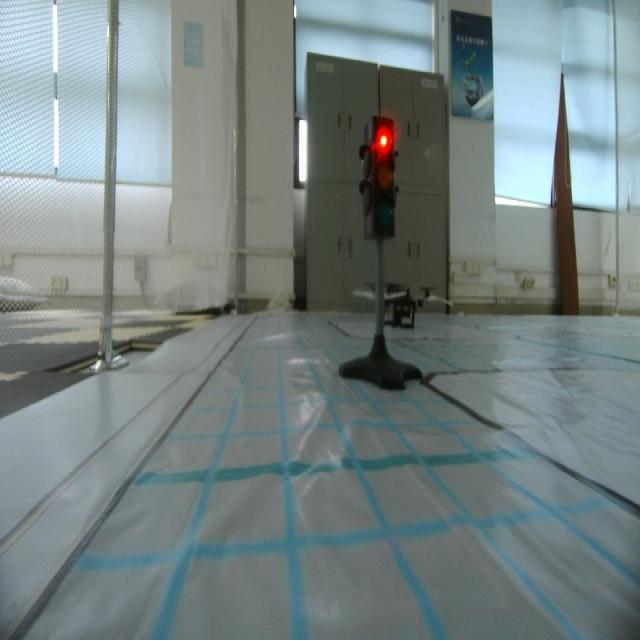red: (357, 116, 406, 257)
